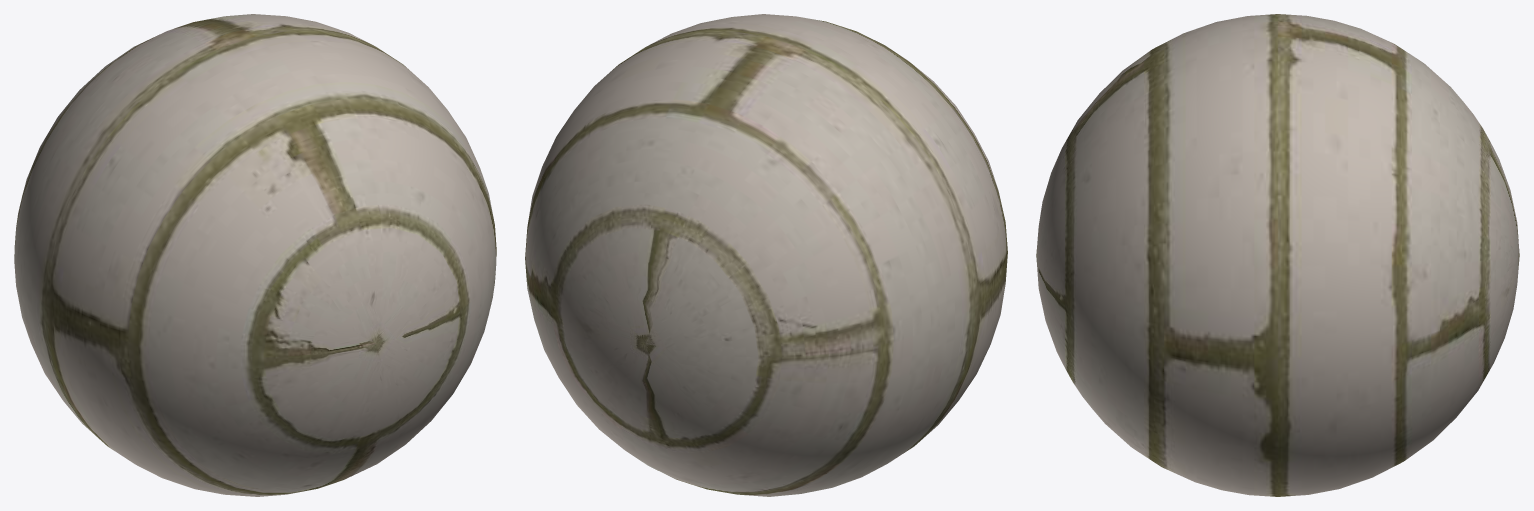
3 renders of one model, left to right at view 1: azimuth 30°, elevation 25°; view 2: azimuth 150°, elevation 25°; view 3: azimuth 270°, elevation 25°, orthographic.
Parts seen in each view (by area): view 1: GeoSphere001; view 2: GeoSphere001; view 3: GeoSphere001.
Part boxes in pixels (bbox=[...]): GeoSphere001: bbox=[14, 14, 496, 496]; GeoSphere001: bbox=[525, 14, 1007, 496]; GeoSphere001: bbox=[1036, 14, 1519, 496].
Size of the model in its own units: 20 by 20 by 20.
Materials: 1 (1 with a texture image).
